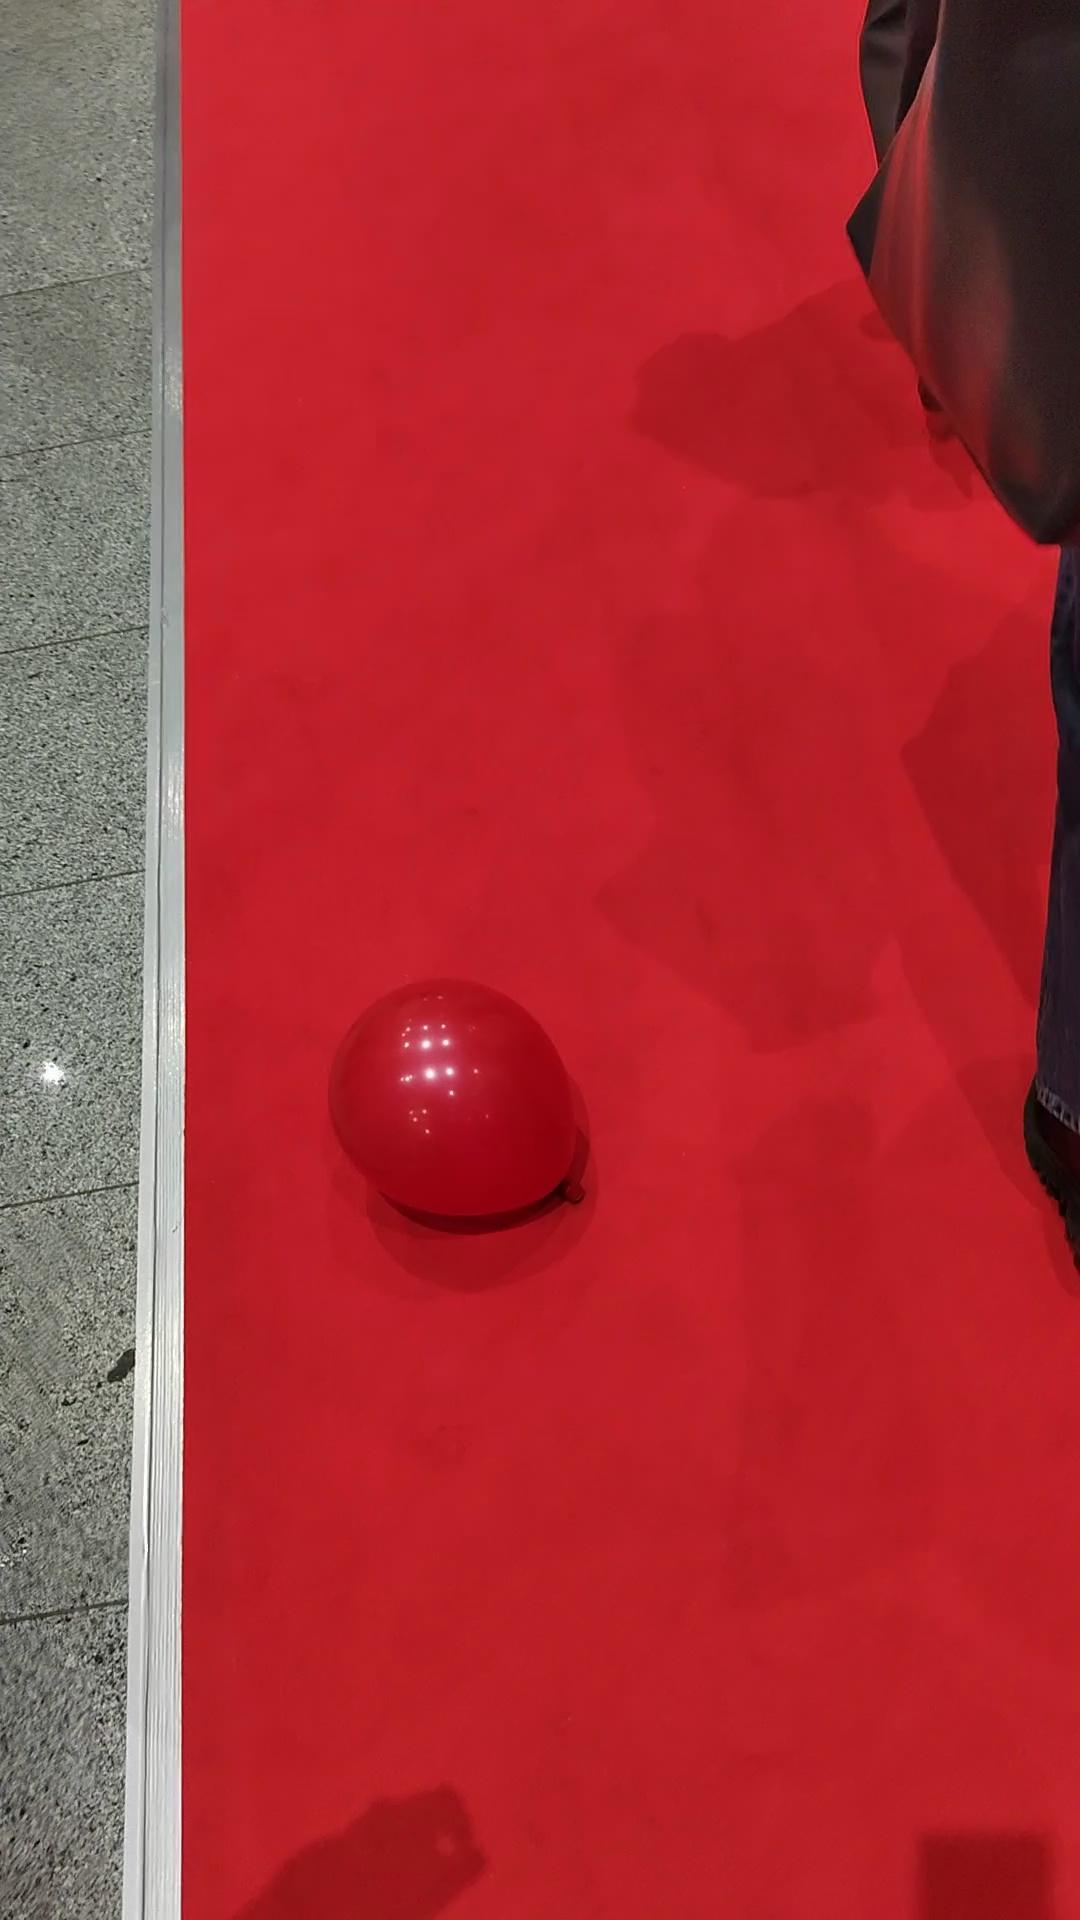red: (329, 980, 582, 1225)
